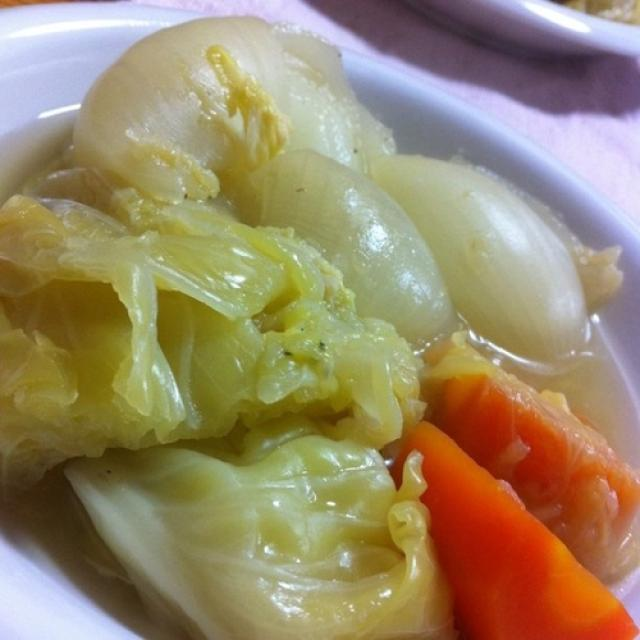汤锅炖物: (4, 16, 635, 610)
